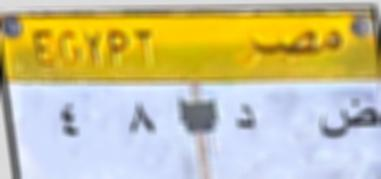4: (47, 102, 92, 148)
8: (118, 99, 159, 142)
daad: (318, 96, 380, 146)
daal: (224, 99, 272, 142)
